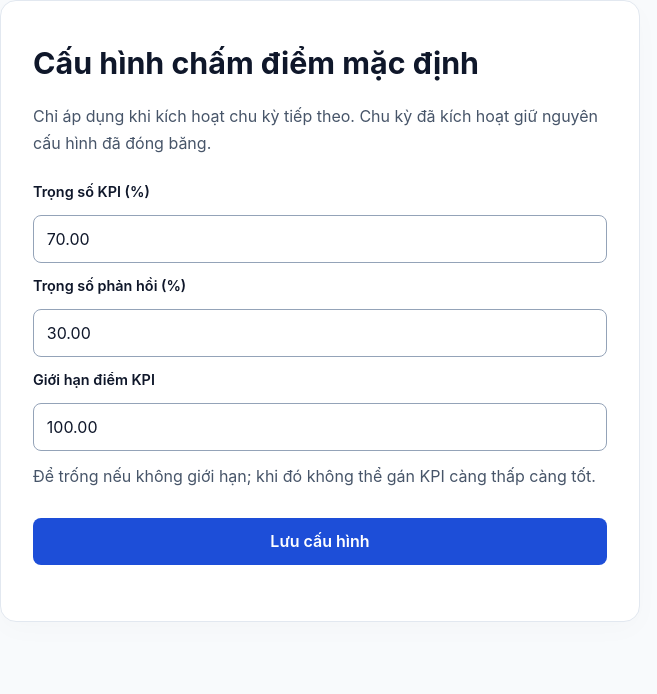
Test: rejects defaults whose component weights do not total 100
Replace the text in the field labelled "Trọng số KPI (%)" with "50.00". click: (320, 239)
box: [33,215,607,263]
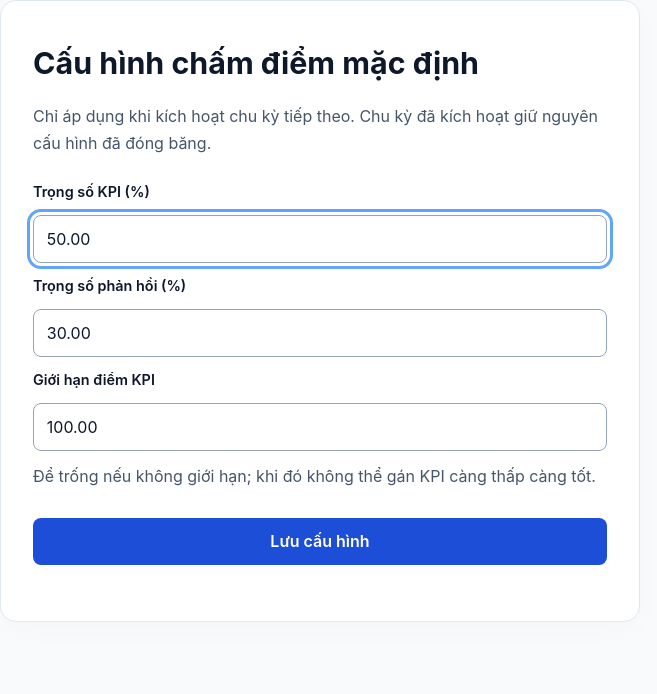
Click the button "Lưu cấu hình". click: click(320, 541)
box: [33,518,607,564]
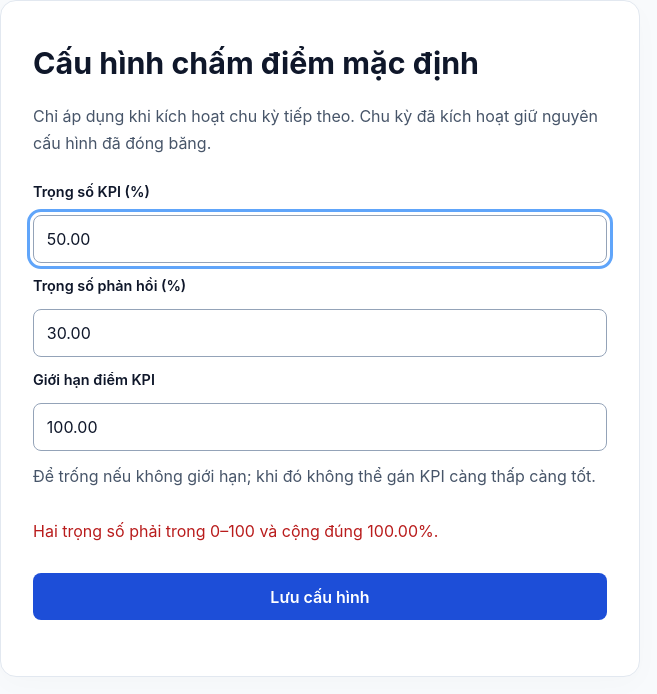
Result: the message "Hai trọng số phải trong 0–100 và cộng đúng 100.00%." is shown at [33,521,438,541]
